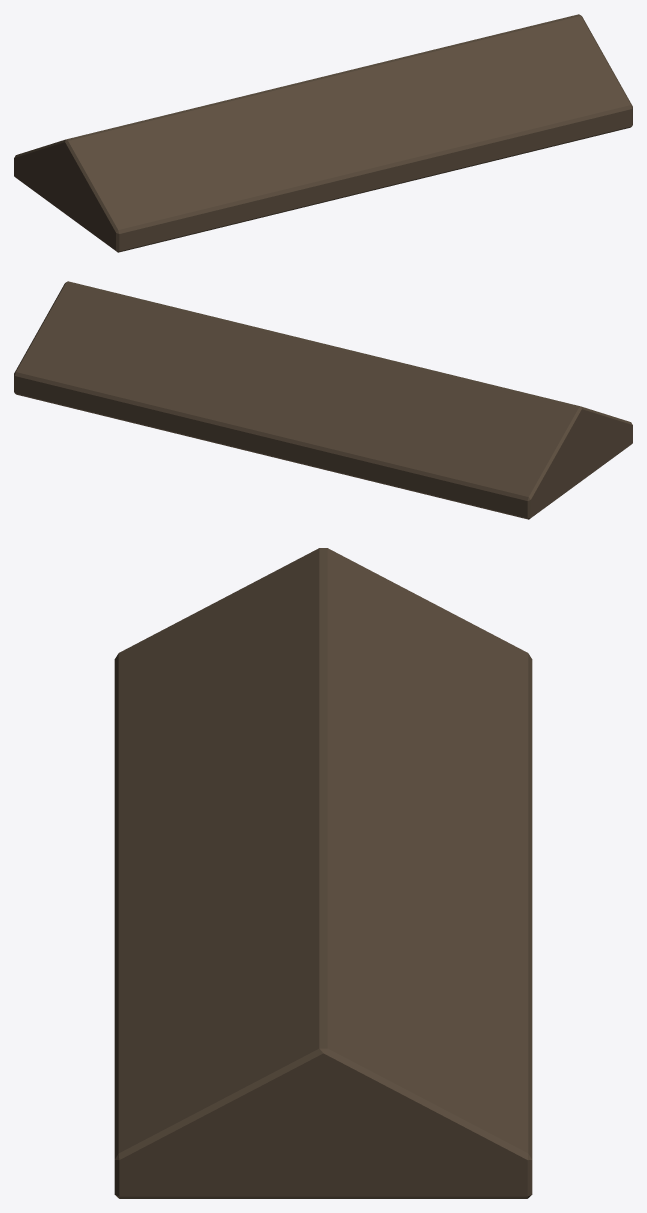
The model's file is SM_Roof_Ridge_30.fbx.
3 views of the same model, one above another, from view 1: azimuth 30°, elevation 25°; view 2: azimuth 150°, elevation 25°; view 3: azimuth 270°, elevation 25° (orthographic). The views are drawn at different scales.
Visible parts, largest first — view 1: SM_Roof_Ridge_30; view 2: SM_Roof_Ridge_30; view 3: SM_Roof_Ridge_30.
Boxes of the visible parts, x1,y1,x2,y2 form: SM_Roof_Ridge_30: [14, 14, 632, 252]; SM_Roof_Ridge_30: [14, 281, 632, 519]; SM_Roof_Ridge_30: [114, 548, 532, 1198].
Bounding box in the file's own units: 2 × 0.2781 × 0.7.
